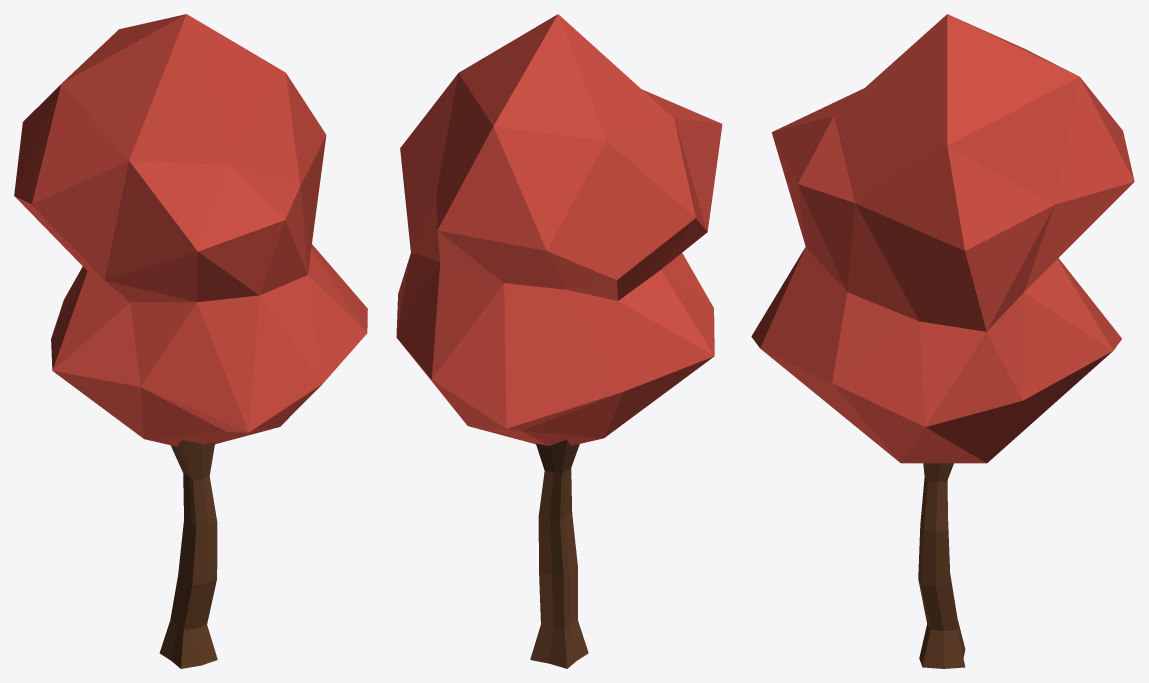
Rendered from Tree_42_Red.fbx.
3 renders of one model, left to right at view 1: azimuth 30°, elevation 25°; view 2: azimuth 150°, elevation 25°; view 3: azimuth 270°, elevation 25°, orthographic.
Visible parts, largest first — view 1: Tree_42_Red_Part_1, Tree_42_Red_Part_2; view 2: Tree_42_Red_Part_1, Tree_42_Red_Part_2; view 3: Tree_42_Red_Part_1, Tree_42_Red_Part_2.
Part boxes in pixels (box(x1,y1,x2,y2)): Tree_42_Red_Part_1: box(14, 14, 367, 446); Tree_42_Red_Part_2: box(159, 440, 217, 668); Tree_42_Red_Part_1: box(396, 14, 722, 445); Tree_42_Red_Part_2: box(530, 439, 588, 668); Tree_42_Red_Part_1: box(751, 14, 1134, 463); Tree_42_Red_Part_2: box(918, 463, 965, 668).
Size of the model in its own units: 411 by 797 by 430.
